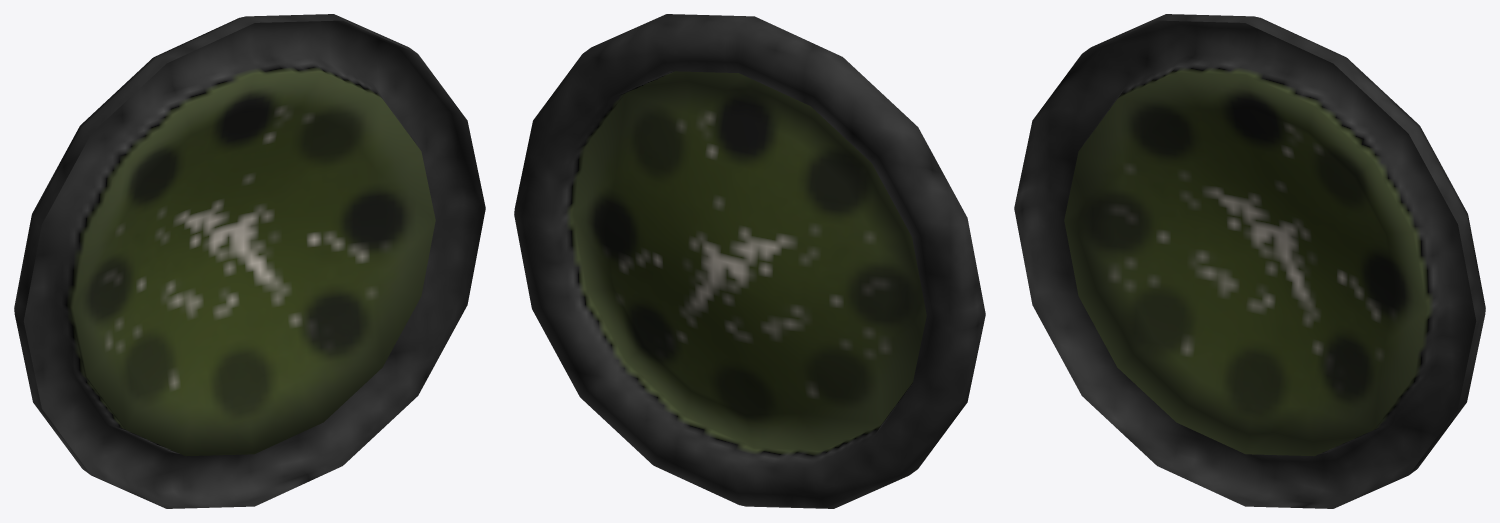
Rendered from Boss001_Swheel001.FBX.
3 renders of one model, left to right at view 1: azimuth 30°, elevation 25°; view 2: azimuth 150°, elevation 25°; view 3: azimuth 330°, elevation 25°, orthographic.
Parts seen in each view (by area): view 1: Boss001_Swheel001; view 2: Boss001_Swheel001; view 3: Boss001_Swheel001.
Boxes of the visible parts, <box> form: Boss001_Swheel001: <box>14,14,485,508</box>; Boss001_Swheel001: <box>514,14,985,508</box>; Boss001_Swheel001: <box>1014,14,1485,508</box>.
Bounding box in the file's own units: 165 × 165 × 16.7.
1 material, 1 textured.
